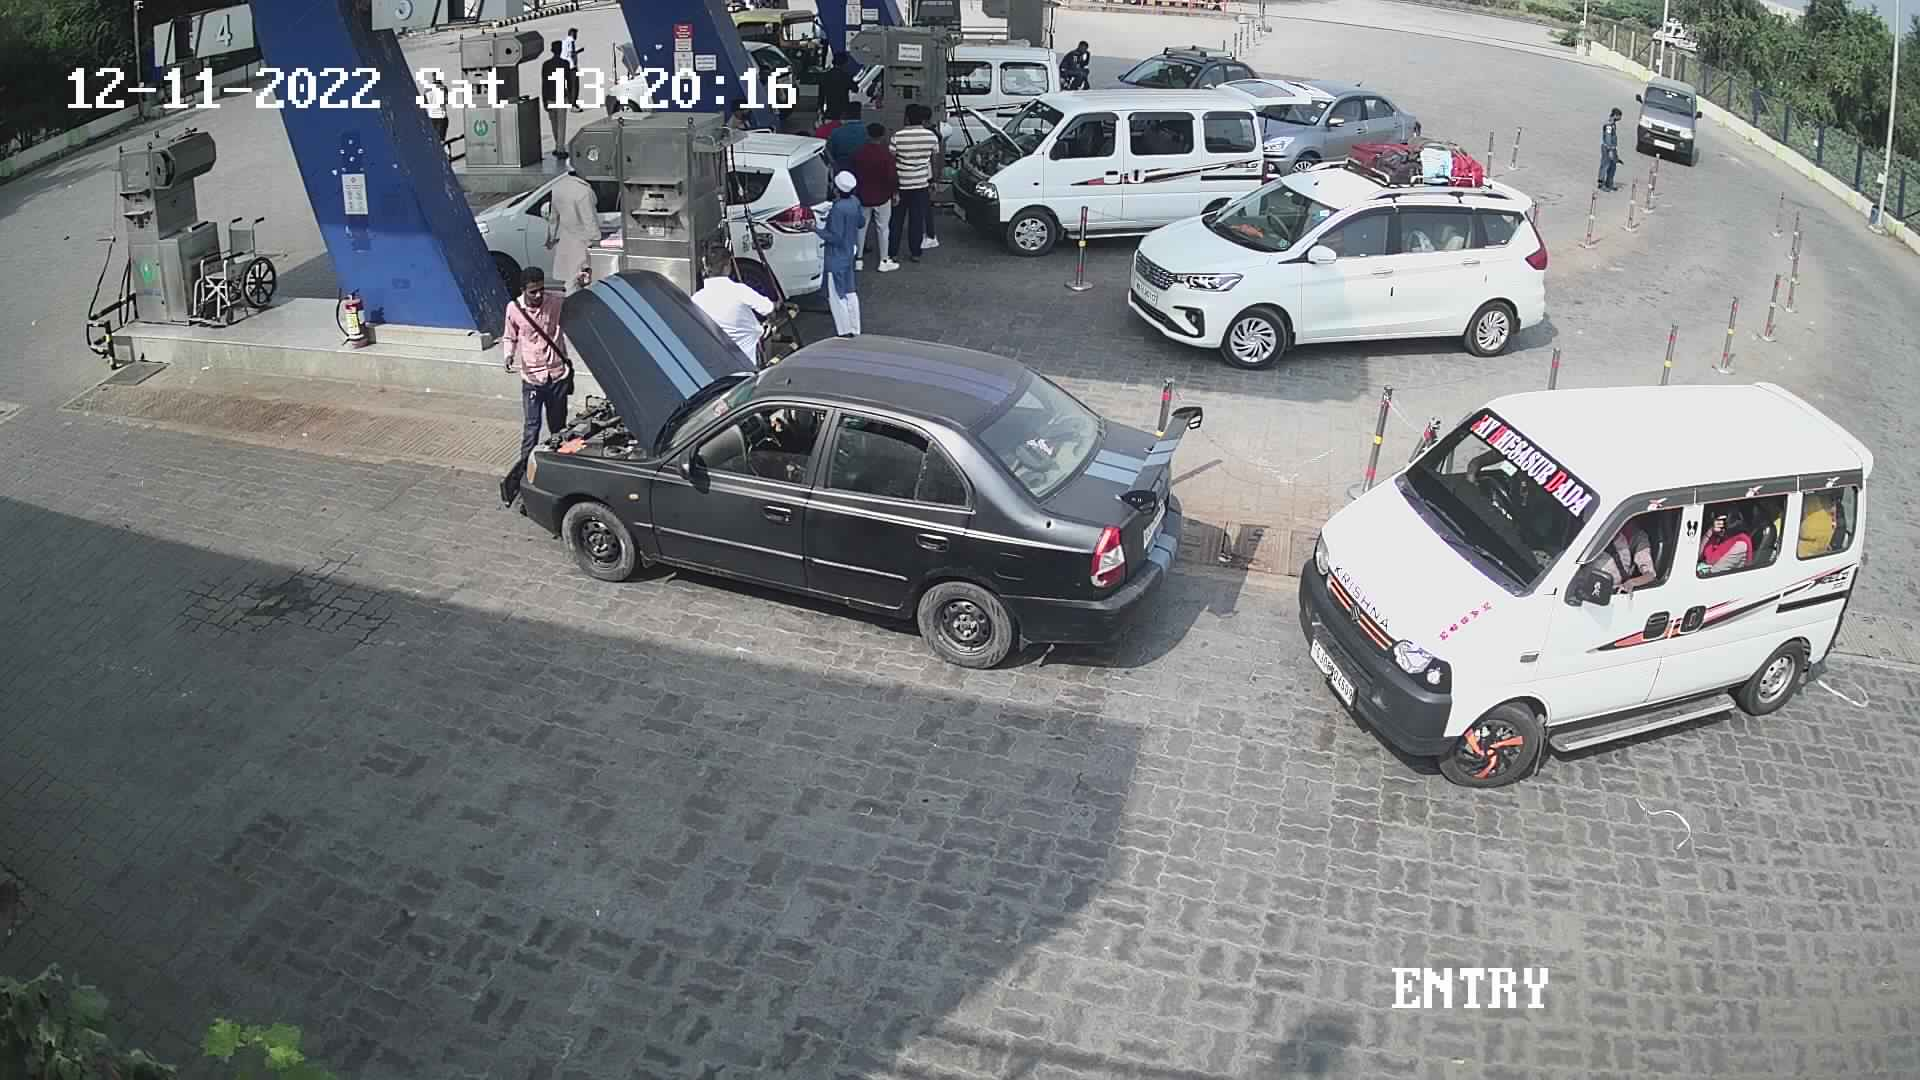Auto: (716, 0, 833, 94)
Car: (492, 264, 1207, 678), (1286, 355, 1879, 793), (1120, 128, 1559, 368), (940, 73, 1340, 260), (705, 120, 866, 345), (930, 29, 1072, 185), (1247, 73, 1425, 194), (1615, 49, 1714, 174), (1091, 38, 1258, 104), (736, 33, 806, 128)
